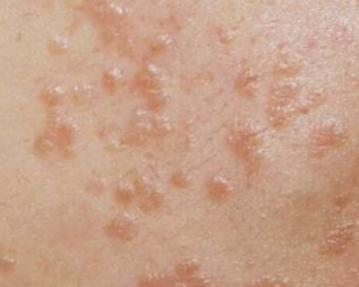flat_wart: (214, 34, 344, 126), (132, 31, 186, 112), (215, 110, 279, 172), (22, 113, 96, 166), (134, 245, 213, 287), (91, 198, 154, 248), (108, 164, 164, 207), (36, 23, 86, 67), (200, 169, 244, 210), (36, 80, 73, 109), (99, 65, 129, 92)
